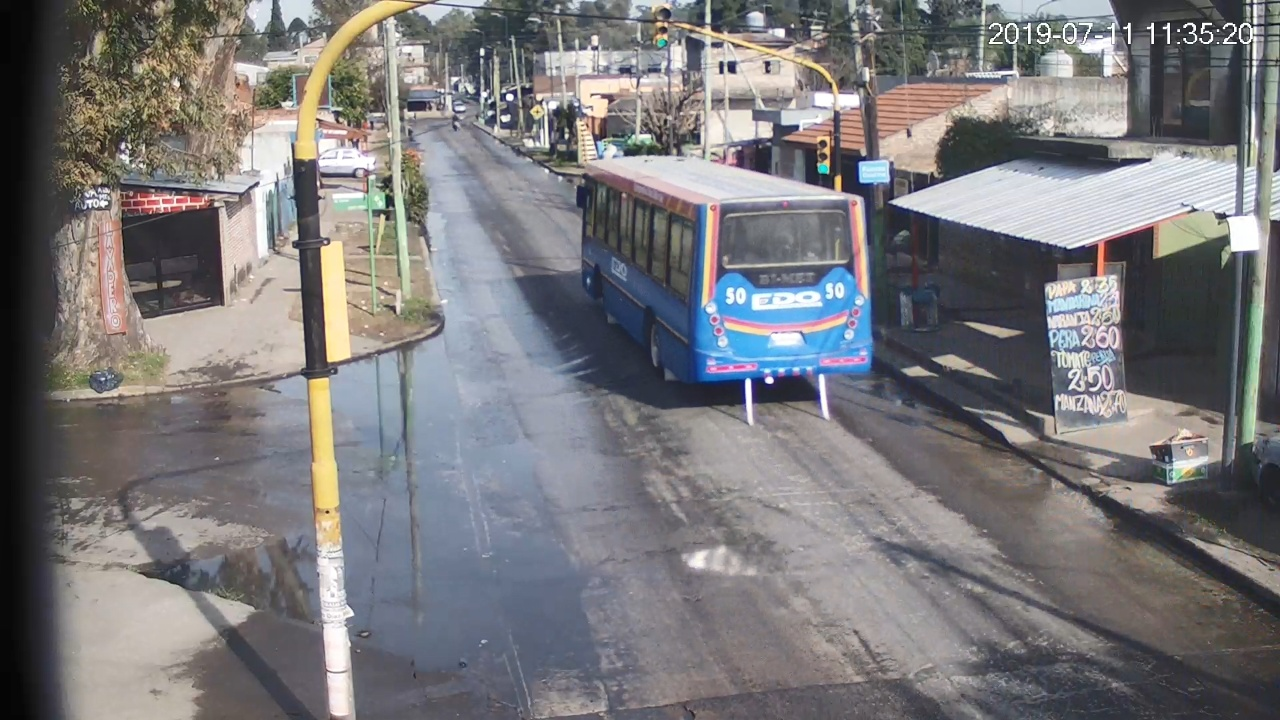bus: (576, 156, 873, 384)
traffic light: (655, 6, 670, 49), (817, 137, 831, 174)
